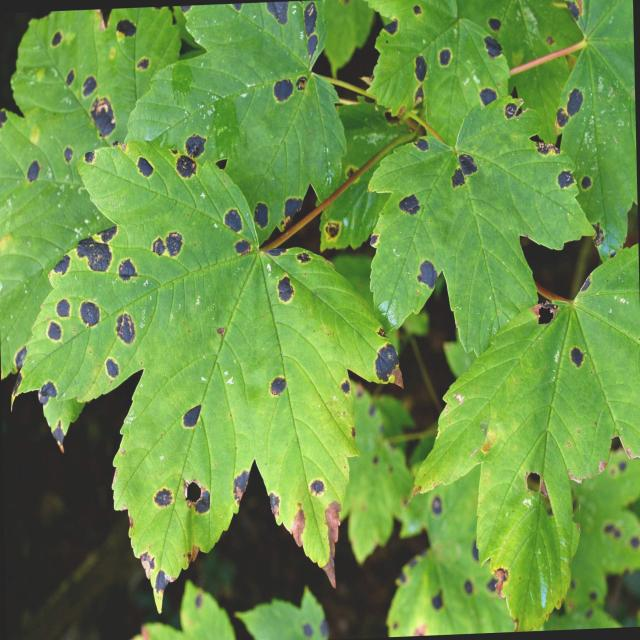Tar_Spot: (3, 6, 640, 640)
